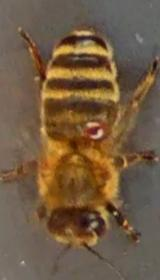varroa_mite: (78, 116, 112, 142)
